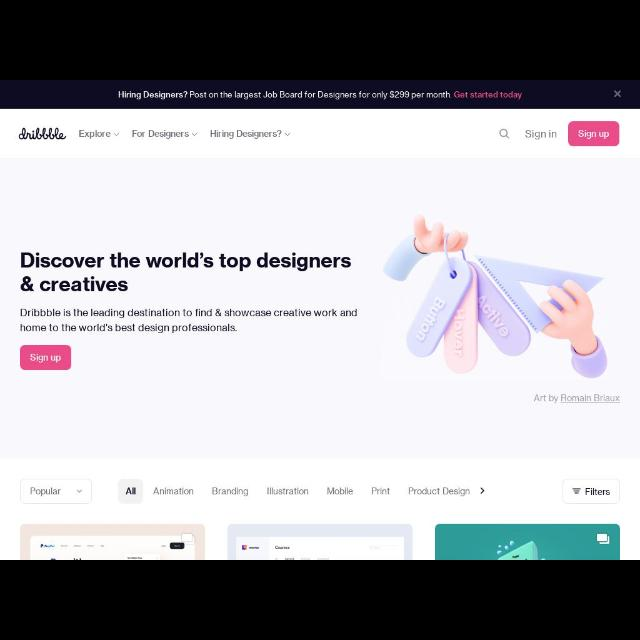icon: (499, 129, 509, 139), (614, 90, 622, 98), (573, 488, 581, 494), (480, 488, 484, 494), (285, 134, 291, 136), (76, 490, 82, 492), (114, 134, 118, 136), (192, 134, 196, 136)
image: (382, 214, 622, 403), (435, 524, 619, 560), (21, 524, 206, 558), (228, 524, 412, 558), (19, 128, 66, 140)
multitab: (1, 460, 639, 512), (1, 110, 639, 156)
spinner: (21, 480, 91, 502), (211, 129, 291, 139), (133, 130, 197, 140), (79, 130, 119, 140)
text: (21, 252, 352, 292), (20, 308, 358, 334), (119, 92, 522, 100), (210, 130, 282, 140), (408, 487, 470, 497), (133, 130, 189, 140), (212, 488, 248, 497), (525, 130, 557, 140), (578, 129, 610, 139), (268, 487, 308, 495), (80, 130, 110, 140), (30, 354, 60, 364), (31, 488, 61, 497), (153, 488, 193, 494), (327, 487, 353, 495), (586, 488, 610, 496), (372, 487, 391, 495), (125, 488, 136, 494)
textbutton: (563, 478, 619, 504), (20, 344, 72, 370), (568, 122, 620, 146), (118, 479, 144, 505)
